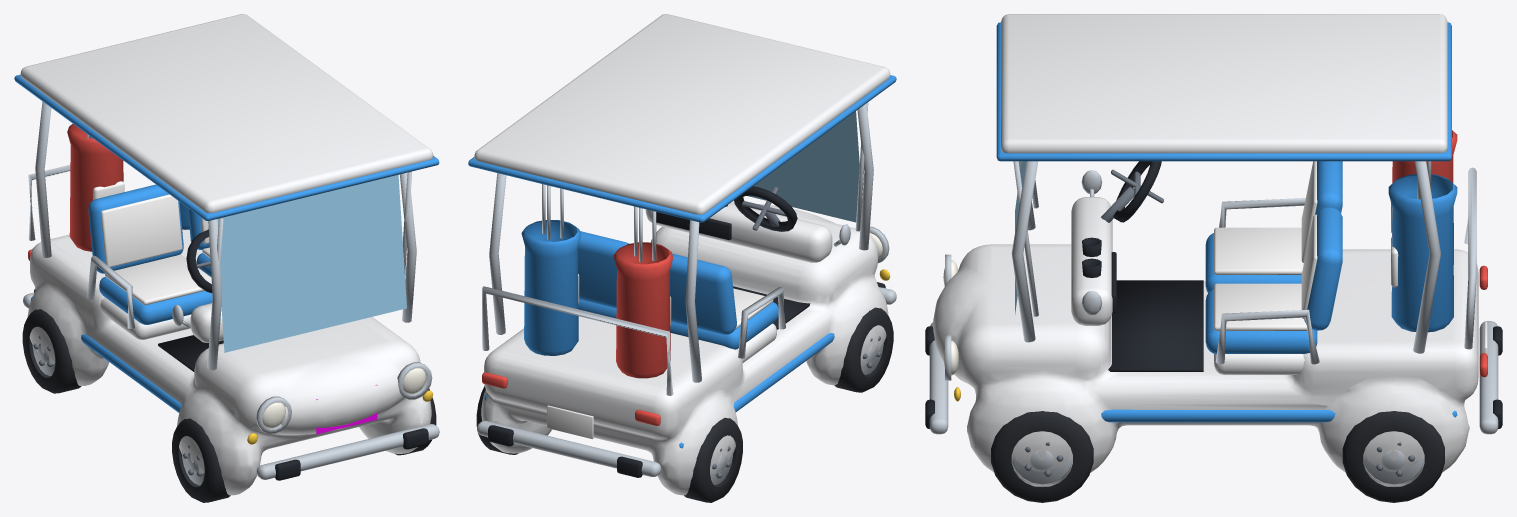
Rendered from golf_cart.glb.
3 renders of one model, left to right at view 1: azimuth 30°, elevation 25°; view 2: azimuth 150°, elevation 25°; view 3: azimuth 270°, elevation 25°, orthographic. The views are drawn at different scales.
Visible parts, largest first — view 1: golf_cart; view 2: golf_cart; view 3: golf_cart.
Part boxes in pixels (x1=…): golf_cart: x1=14, y1=14, x2=439, y2=502; golf_cart: x1=468, y1=14, x2=896, y2=502; golf_cart: x1=925, y1=14, x2=1502, y2=502.
Bounding box in the file's own units: 1.54 × 1.95 × 2.79.
